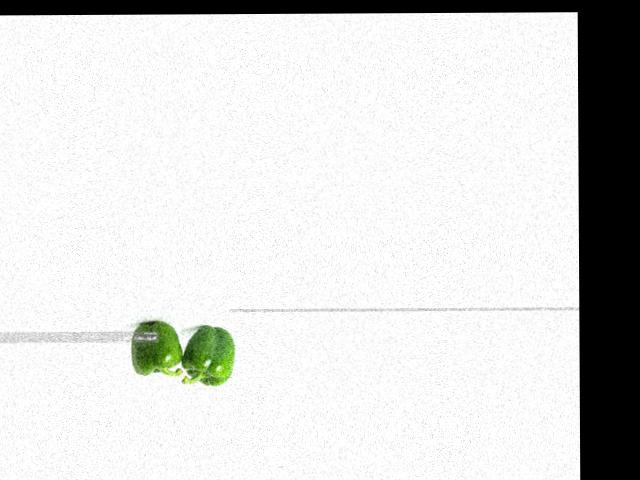bell_pepper: (182, 316, 234, 390)
